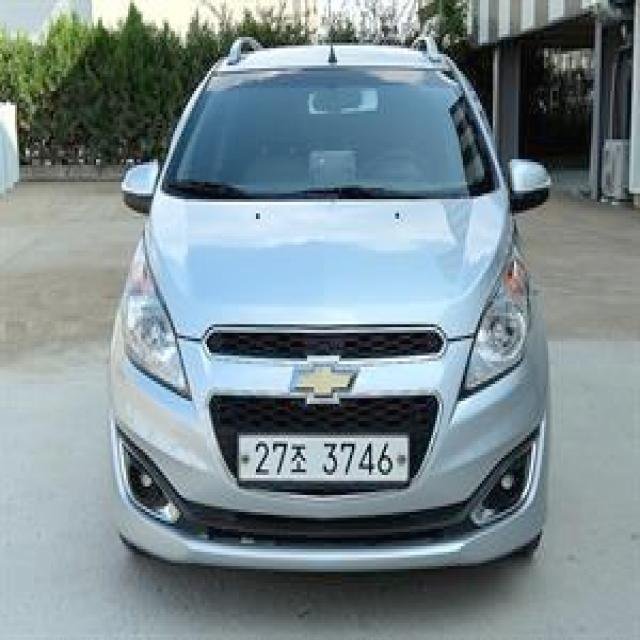car: (105, 19, 567, 596)
illegal_plate: (235, 428, 416, 496)
